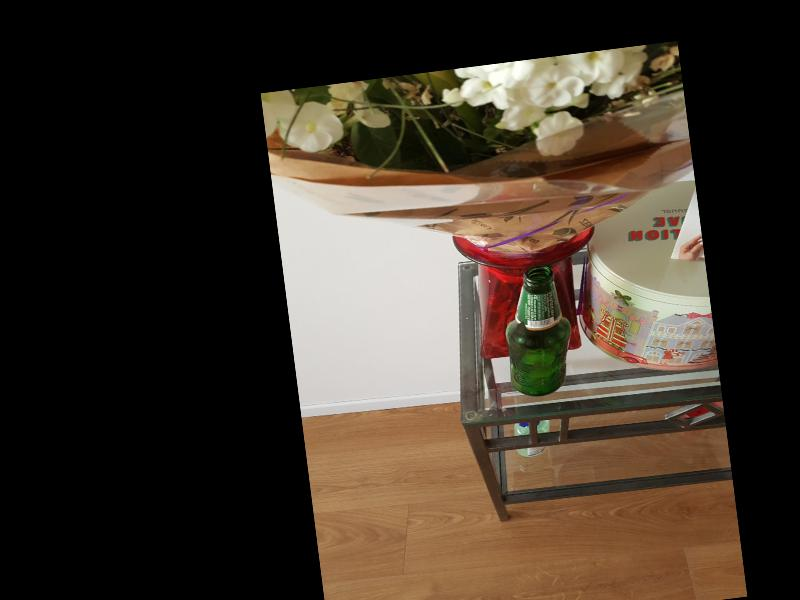Beer: (496, 264, 579, 400)
